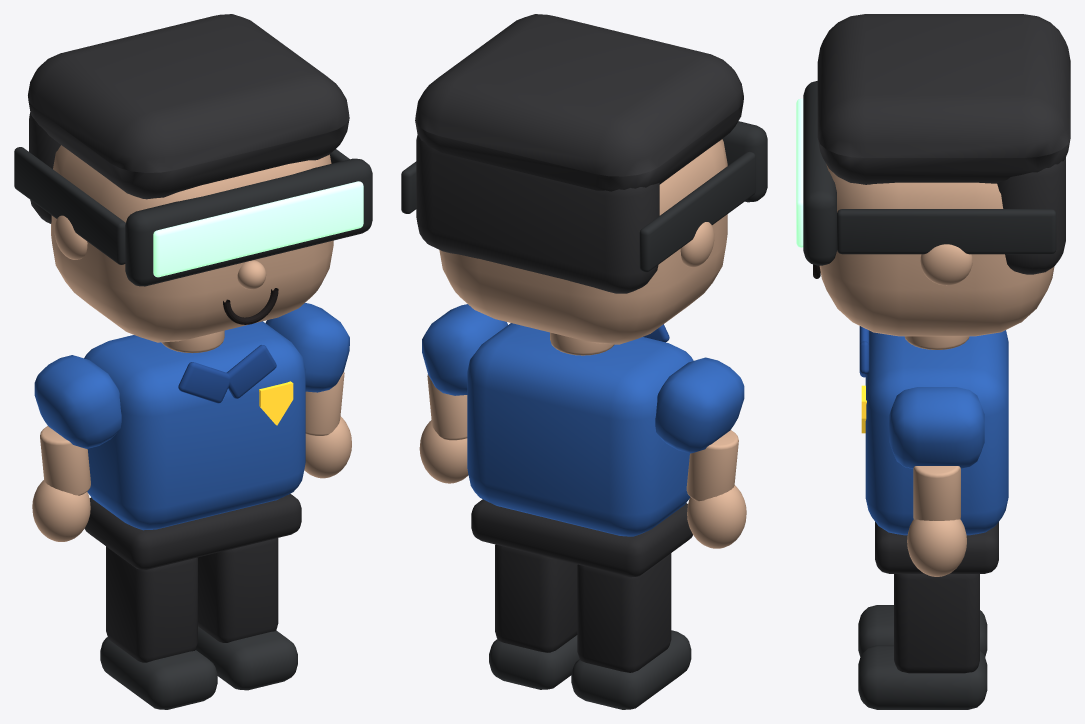
The model's file is agent.glb.
The picture shows the model from 3 angles, left to right: view 1: azimuth 30°, elevation 25°; view 2: azimuth 150°, elevation 25°; view 3: azimuth 270°, elevation 25°; orthographic projection. The views are drawn at different scales.
Parts seen in each view (by area): view 1: HairTop, Torso, Head, Visor, VisorRim, Leg-1, Belt, Leg1, Sleeve-1, Strap-1, Shoe-1, Shoe1 (+13 smaller); view 2: HairTop, Torso, HairBack, Head, Leg-1, Belt, Leg1, Sleeve-1, Strap-1, Shoe-1, Sleeve1, Shoe1 (+8 smaller); view 3: HairTop, Head, Torso, Strap1, Leg1, Sleeve1, Shoe1, VisorRim, HairBack, Belt, Hand1, Arm1 (+4 smaller).
Boxes of the visible parts, left/top/right/bottom form: HairTop: left=28, top=14, right=349, bottom=199; Torso: left=84, top=321, right=305, bottom=530; Head: left=51, top=145, right=333, bottom=342; Visor: left=153, top=181, right=363, bottom=277; VisorRim: left=125, top=158, right=372, bottom=286; Leg-1: left=106, top=546, right=197, bottom=662; Belt: left=84, top=494, right=301, bottom=569; Leg1: left=197, top=538, right=278, bottom=642; Sleeve-1: left=34, top=355, right=121, bottom=448; Strap-1: left=14, top=147, right=125, bottom=264; Shoe-1: left=100, top=637, right=217, bottom=709; Shoe1: left=196, top=626, right=297, bottom=690; HairTop: left=415, top=14, right=743, bottom=191; Torso: left=467, top=323, right=693, bottom=536; HairBack: left=416, top=134, right=659, bottom=293; Head: left=439, top=139, right=727, bottom=344; Leg-1: left=577, top=553, right=671, bottom=672; Belt: left=471, top=499, right=692, bottom=577; Leg1: left=495, top=544, right=577, bottom=652; Sleeve-1: left=655, top=357, right=744, bottom=453; Strap-1: left=639, top=151, right=755, bottom=272; Shoe-1: left=571, top=630, right=691, bottom=709; Sleeve1: left=422, top=304, right=507, bottom=395; Shoe1: left=489, top=635, right=579, bottom=689; HairTop: left=817, top=14, right=1070, bottom=184; Head: left=819, top=164, right=1054, bottom=336; Torso: left=865, top=330, right=1008, bottom=535; Strap1: left=837, top=209, right=1056, bottom=254; Leg1: left=894, top=574, right=979, bottom=673; Sleeve1: left=889, top=387, right=984, bottom=468; Shoe1: left=858, top=645, right=987, bottom=709; VisorRim: left=803, top=81, right=836, bottom=265; HairBack: left=997, top=157, right=1065, bottom=274; Belt: left=875, top=522, right=998, bottom=573; Hand1: left=907, top=519, right=966, bottom=576; Arm1: left=913, top=466, right=960, bottom=520.
Size of the model in its own units: 0.776 by 1.44 by 0.575.
